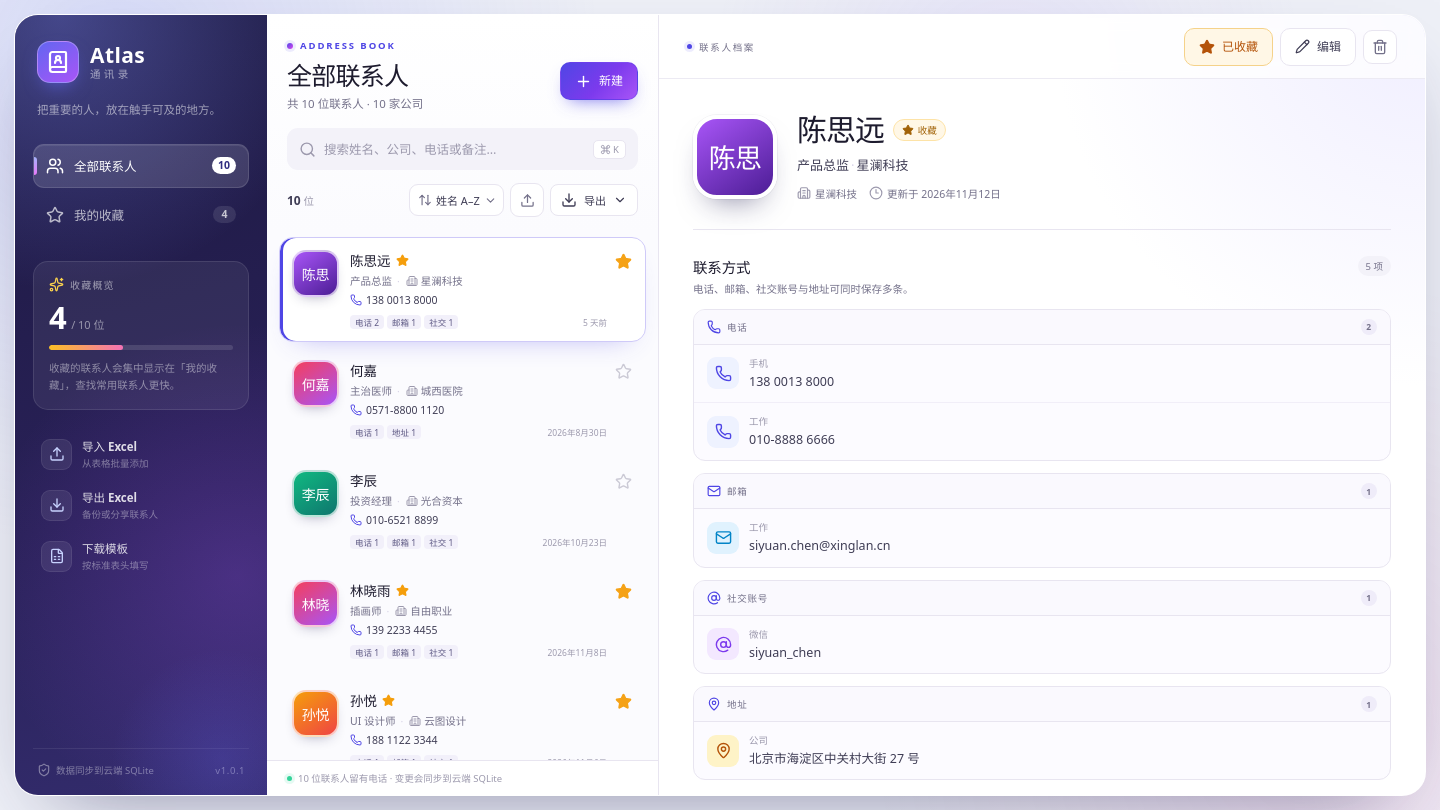
Test: Atlas address book › filters the list to favorites from the sidebar
What coordinates should you click on to do the following:
click the button "我的收藏 4"
I would click on:
 (141, 214)
Its box is [33, 192, 249, 236].
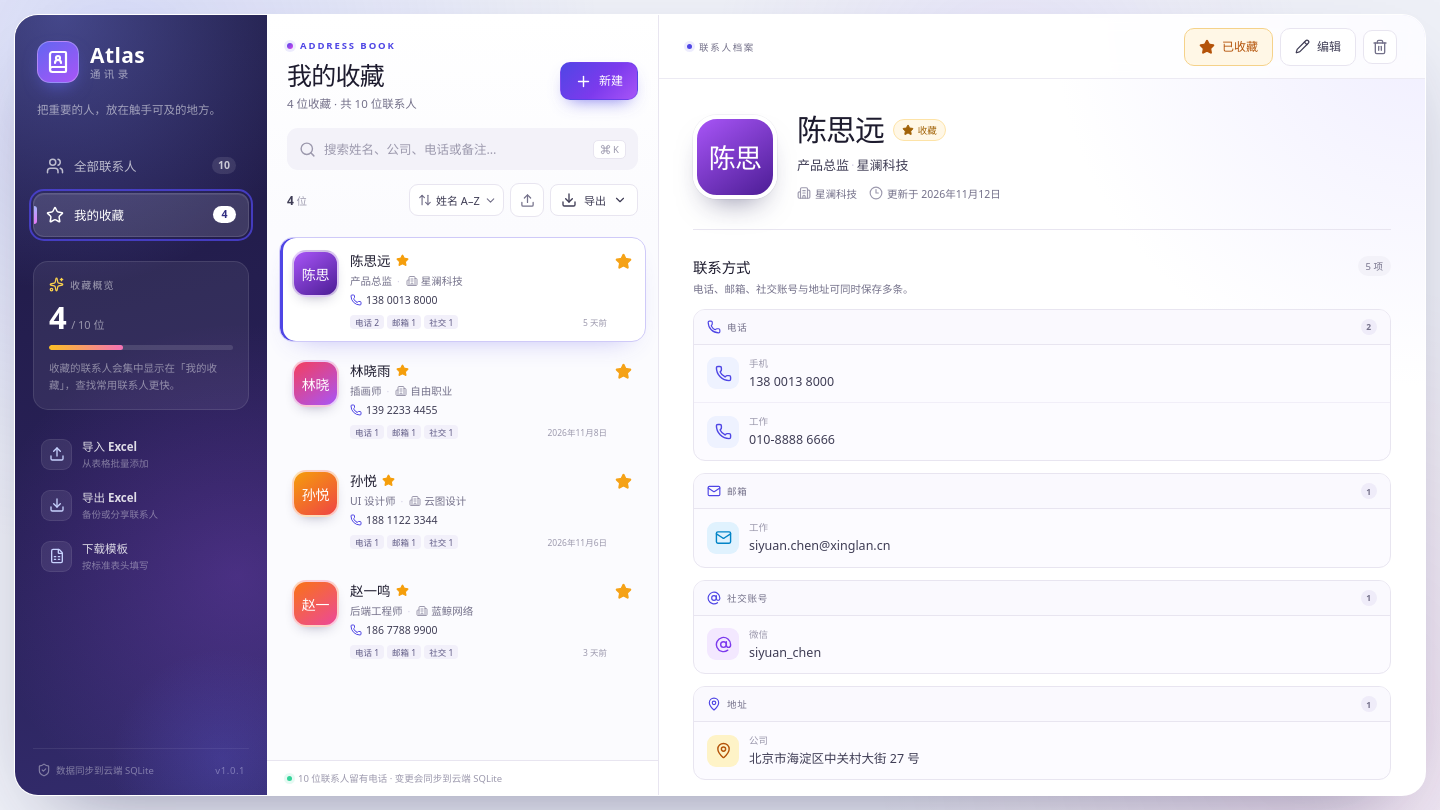
Expected: the text "林晓雨" is shown, [350, 360, 390, 380]
Result: the heading "我的收藏" is shown at [287, 58, 384, 92]
Result: the number of buttons "陈思 陈思远 产品总监 · 星澜科技 138 0013 8000 电话 2 邮箱 1 社交 1 5 天前" is 4 at [279, 237, 646, 342]; [279, 347, 646, 452]; [279, 457, 646, 562]; [279, 567, 646, 672]
